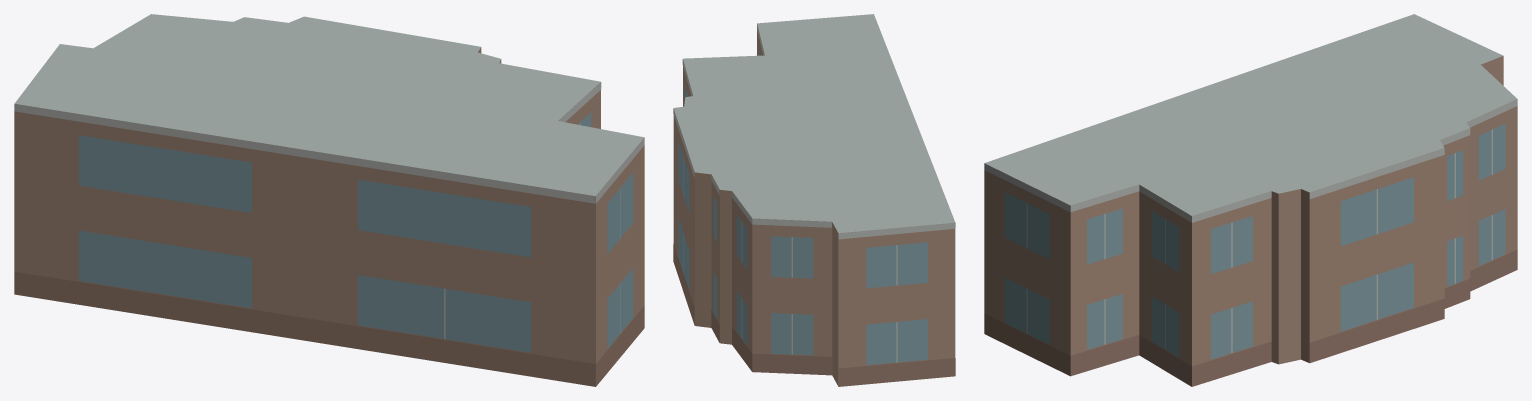
Rendered from survey-upis-32659685.glb.
The picture shows the model from 3 angles, left to right: view 1: azimuth 30°, elevation 25°; view 2: azimuth 150°, elevation 25°; view 3: azimuth 270°, elevation 25°; orthographic projection. The views are drawn at different scales.
Parts seen in each view (by area): view 1: survey-upis-32659685.tmp; view 2: survey-upis-32659685.tmp; view 3: survey-upis-32659685.tmp.
Boxes of the visible parts, left/top/right/bottom form: survey-upis-32659685.tmp: left=14, top=14, right=644, bottom=386; survey-upis-32659685.tmp: left=673, top=14, right=955, bottom=386; survey-upis-32659685.tmp: left=984, top=14, right=1517, bottom=386.
Size of the model in its own units: 15.5 by 6.1 by 17.28.
